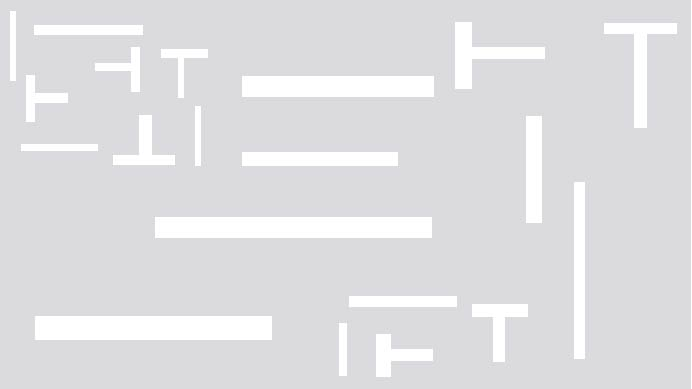LaneMark: (150, 212, 438, 245), (601, 19, 683, 134), (28, 311, 278, 347), (448, 16, 550, 93), (237, 71, 440, 103), (106, 111, 182, 169), (469, 300, 532, 365), (569, 179, 591, 362), (239, 147, 402, 171), (371, 330, 437, 383), (158, 44, 212, 100), (90, 44, 145, 97), (22, 71, 72, 126), (523, 113, 546, 228), (345, 291, 460, 311), (28, 20, 147, 39), (16, 140, 102, 156), (190, 102, 208, 170), (6, 7, 21, 82), (334, 319, 351, 380)
